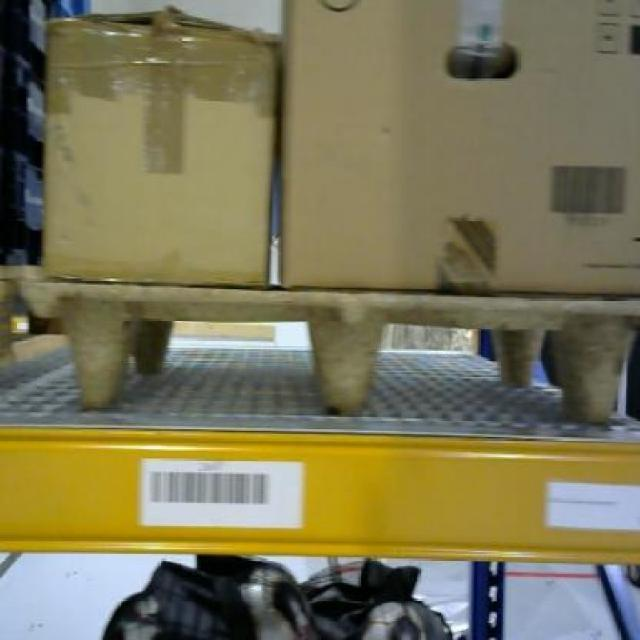box: (284, 0, 636, 289), (46, 8, 272, 294)
